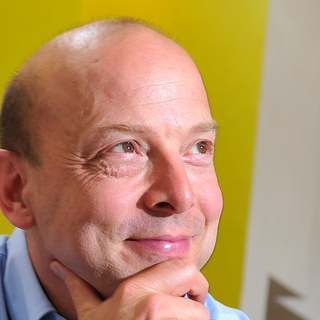eye: (97, 134, 146, 160), (183, 138, 216, 161)
